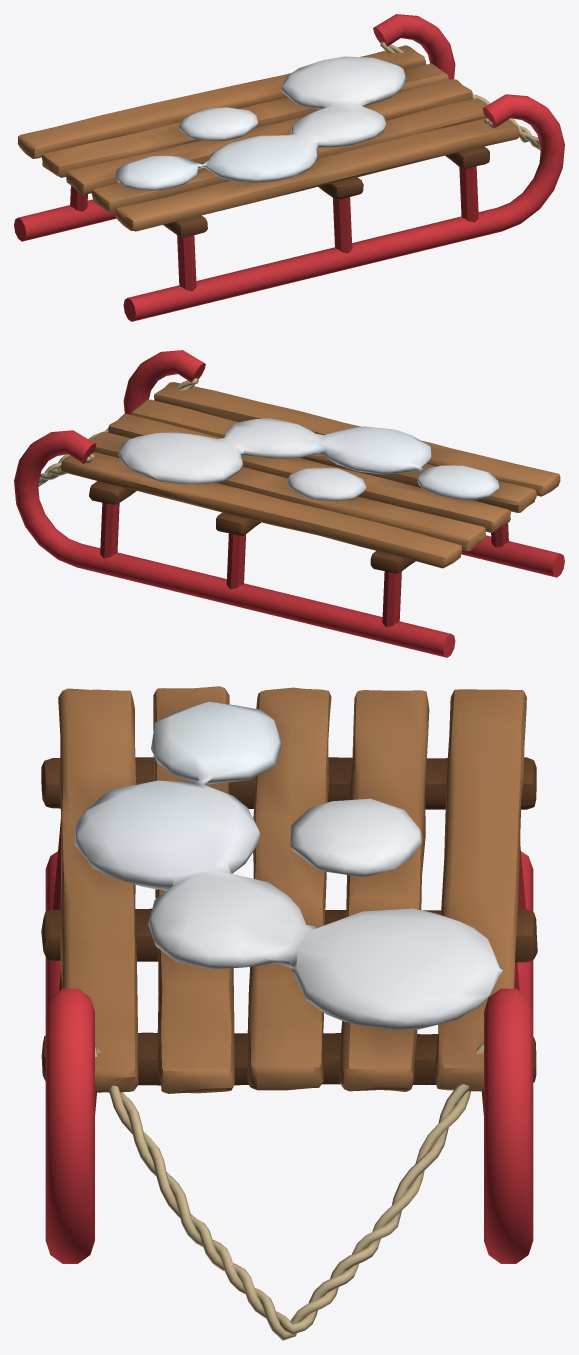
Rendered from frost_toy_sled.glb.
The picture shows the model from 3 angles, top to bottom: view 1: azimuth 30°, elevation 25°; view 2: azimuth 150°, elevation 25°; view 3: azimuth 270°, elevation 25°; orthographic projection. The views are drawn at different scales.
Parts seen in each view (by area): view 1: frost_toy_sled; view 2: frost_toy_sled; view 3: frost_toy_sled.
Boxes of the visible parts, <box> form: frost_toy_sled: <box>14,14,564,321</box>; frost_toy_sled: <box>14,350,564,657</box>; frost_toy_sled: <box>41,686,537,1340</box>.
Bounding box in the file's own units: 9.87 × 2.6 × 4.42.
